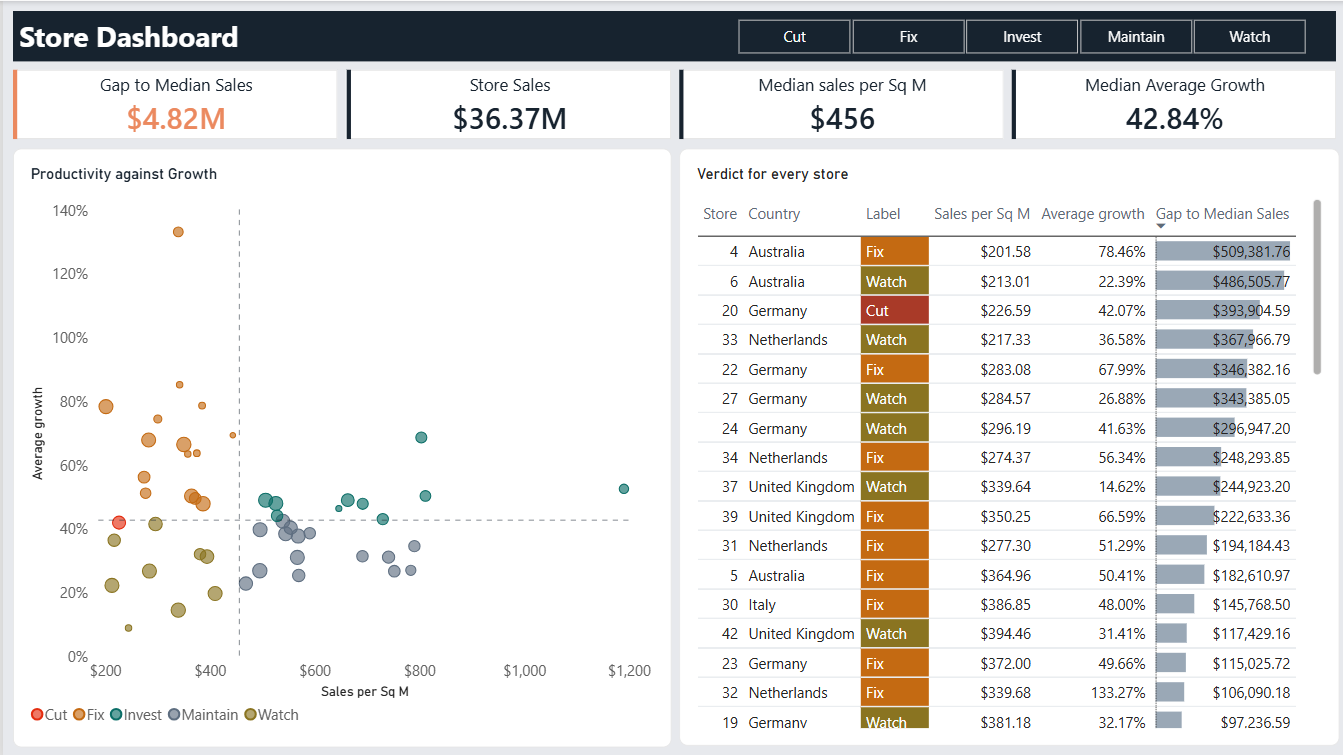

Layout of this report page (visuals, bound fields, positions):
{"tool":"powerbi","page":{"name":"Store","canvas":[1280,720],"ordinal":1},"visuals":[{"type":"shape","box":[10,10,1260,48],"z":0,"group":"g1"},{"type":"group","id":"g1","title":"Background","box":[10,10,1260,700],"z":0},{"type":"textbox","box":[15,15,500,40],"z":1000},{"type":"shape","box":[10,66,309,66],"z":1000,"group":"g1"},{"type":"slicer","fields":{"Values":["Store_Scorecard.Label"]},"box":[680,16,580,36],"z":2000},{"type":"shape","box":[327,66,309,66],"z":2000,"group":"g1"},{"type":"cardVisual","fields":{"Data":["Store_Scorecard.Gap to Median Sales"]},"box":[10,66,309,66],"z":3000},{"type":"shape","box":[644,66,309,66],"z":3000,"group":"g1"},{"type":"cardVisual","fields":{"Data":["Store_Scorecard.Store sales"]},"box":[327,66,309,66],"z":4000},{"type":"shape","box":[961,66,309,66],"z":4000,"group":"g1"},{"type":"cardVisual","fields":{"Data":["Store_Scorecard.Median sales per sq m"]},"box":[644,66,309,66],"z":5000},{"type":"cardVisual","fields":{"Data":["Store_Scorecard.Median Store Avg Growth"]},"box":[961,66,309,66],"z":6000},{"type":"scatterChart","title":"Productivity against Growth             ","fields":{"Category":["Store_Scorecard.StoreKey"],"Series":["Store_Scorecard.Label"],"Size":["Avg(Store_Scorecard.Square Meter)"],"X":["Avg(Store_Scorecard.Sales per Sq M)"],"Y":["Avg(Store_Scorecard.Average YoY)"]},"box":[9.5,140.5,627.4,570.2],"z":8000},{"type":"tableEx","title":"Verdict for every store","fields":{"Values":["Store_Scorecard.StoreKey","Stores_Clean.Country","Store_Scorecard.Label","Avg(Store_Scorecard.Sales per Sq M)","Avg(Store_Scorecard.Average YoY)","Store_Scorecard.Gap to Median Sales"]},"box":[644,140.5,629,569.1],"z":9000}]}

Visuals, with their boxes in screenshot pixels (x1, y1, x2, y2), scaled from the page's 1280x720 canvas onto the 1343x755 screenshot:
shape: detection(10, 10, 1333, 61)
"Background" group: detection(10, 10, 1333, 745)
textbox: detection(16, 16, 540, 58)
shape: detection(10, 69, 335, 138)
slicer - Store_Scorecard.Label: detection(713, 17, 1322, 55)
shape: detection(343, 69, 667, 138)
cardVisual - Store_Scorecard.Gap to Median Sales: detection(10, 69, 335, 138)
shape: detection(676, 69, 1000, 138)
cardVisual - Store_Scorecard.Store sales: detection(343, 69, 667, 138)
shape: detection(1008, 69, 1333, 138)
cardVisual - Store_Scorecard.Median sales per sq m: detection(676, 69, 1000, 138)
cardVisual - Store_Scorecard.Median Store Avg Growth: detection(1008, 69, 1333, 138)
"Productivity against Growth             " scatterChart: detection(10, 147, 668, 745)
"Verdict for every store" tableEx: detection(676, 147, 1336, 744)
